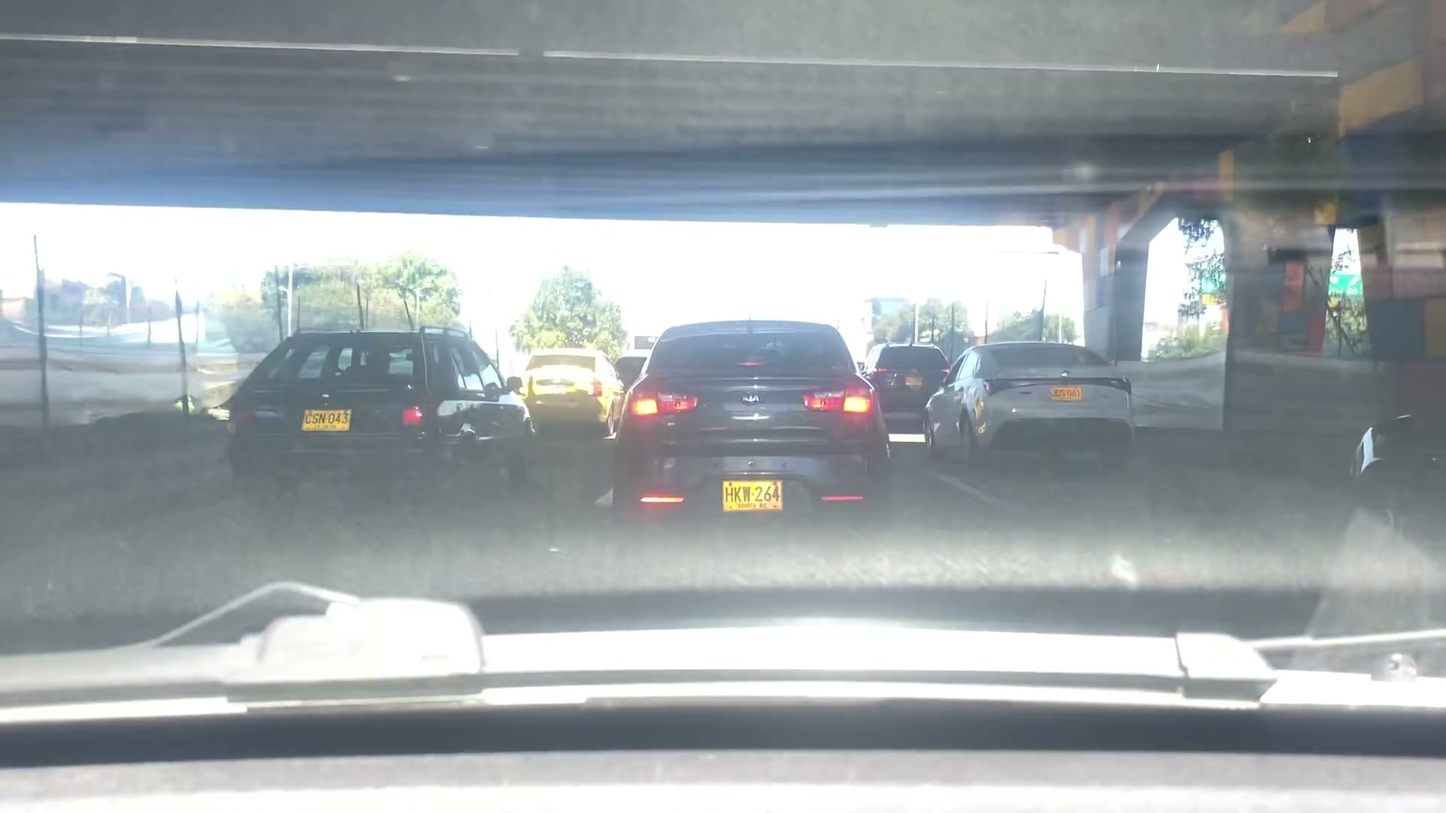car: (604, 316, 892, 529), (229, 328, 534, 499), (921, 340, 1152, 456), (1350, 401, 1446, 641), (521, 348, 625, 432), (860, 340, 948, 418)
